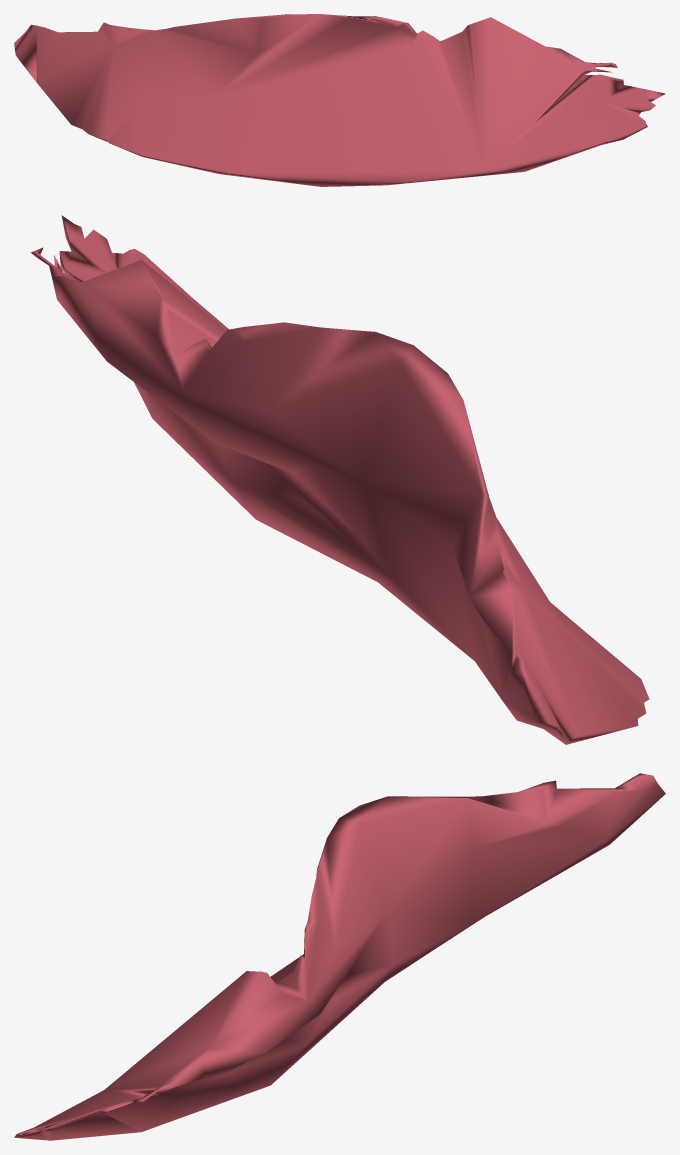
The picture shows the model from 3 angles, top to bottom: view 1: azimuth 30°, elevation 25°; view 2: azimuth 150°, elevation 25°; view 3: azimuth 270°, elevation 25°; orthographic projection. The views are drawn at different scales.
Visible parts, largest first — view 1: 左侧皱眉肌; view 2: 左侧皱眉肌; view 3: 左侧皱眉肌.
Part boxes in pixels (x1,y1,x2,y2): 左侧皱眉肌: (14,14,665,186); 左侧皱眉肌: (30,215,649,744); 左侧皱眉肌: (14,773,665,1140).
Bounding box in the file's own units: 0.0334 × 0.0104 × 0.028.
